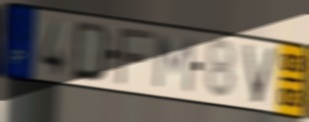4: (39, 17, 69, 79)
8: (204, 38, 239, 103)
D: (70, 19, 113, 85)
F: (114, 27, 157, 88)
M: (152, 32, 197, 96)
V: (240, 42, 281, 107)
